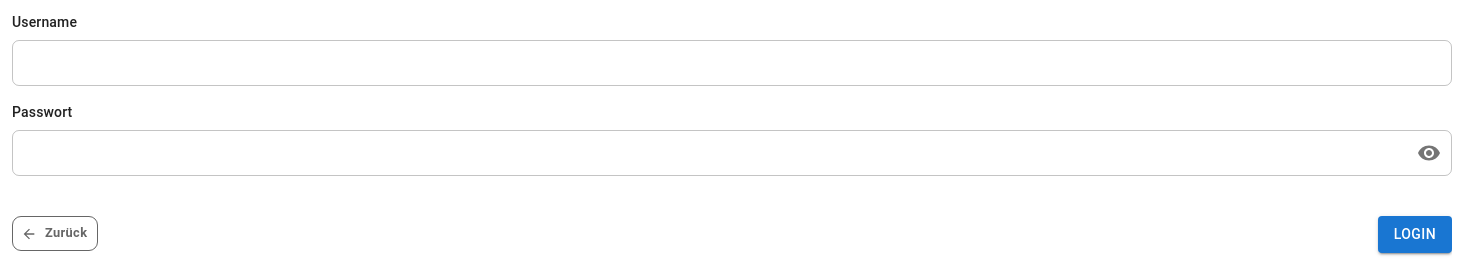
Test: disables login button while loading
The width and height of the screenshot is (1464, 273).
Type "user" into the field named "username" at (732, 63), box [12,45,1452,81]
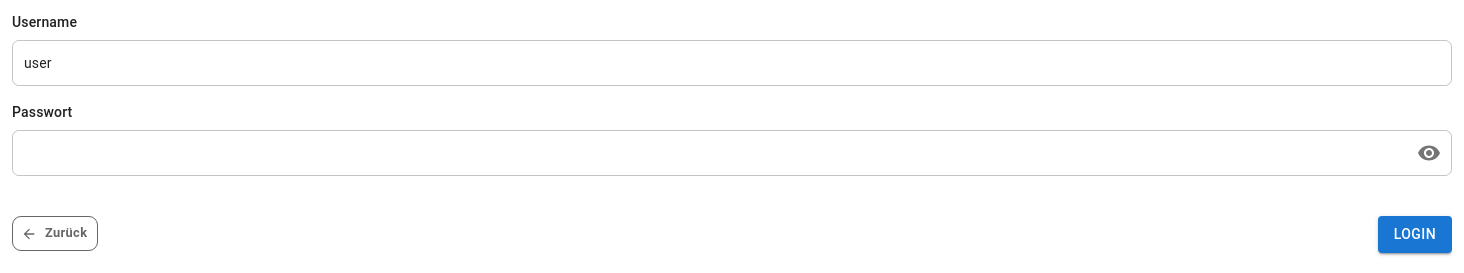
Type "password" into the password field named "Passwort" at (708, 153), box [12,135,1404,171]
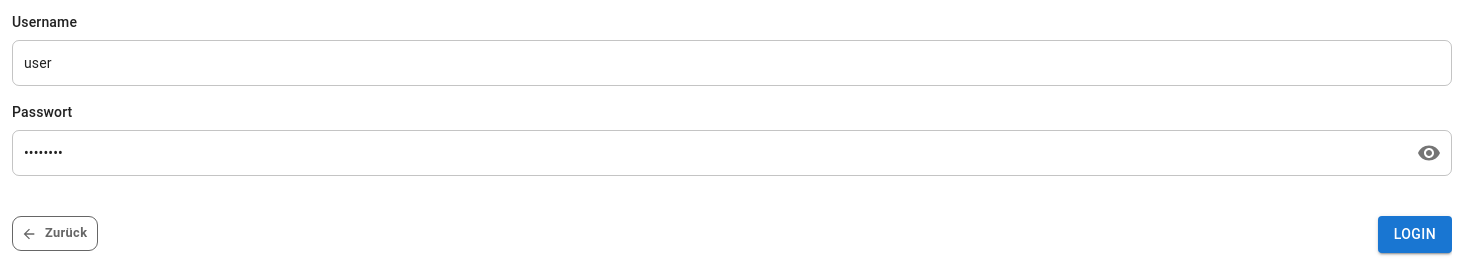
Click the button "Login" at (1415, 234), box [1378,216,1452,252]
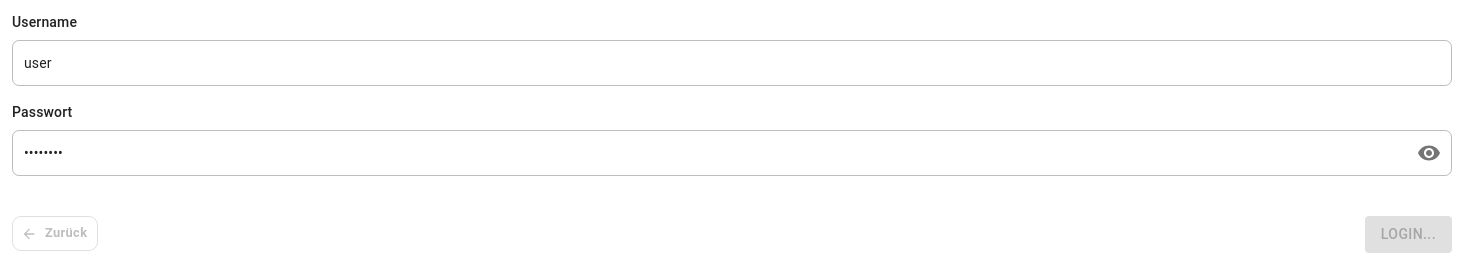
Check: the button "Login..." is disabled, box [1365,216,1452,252]
